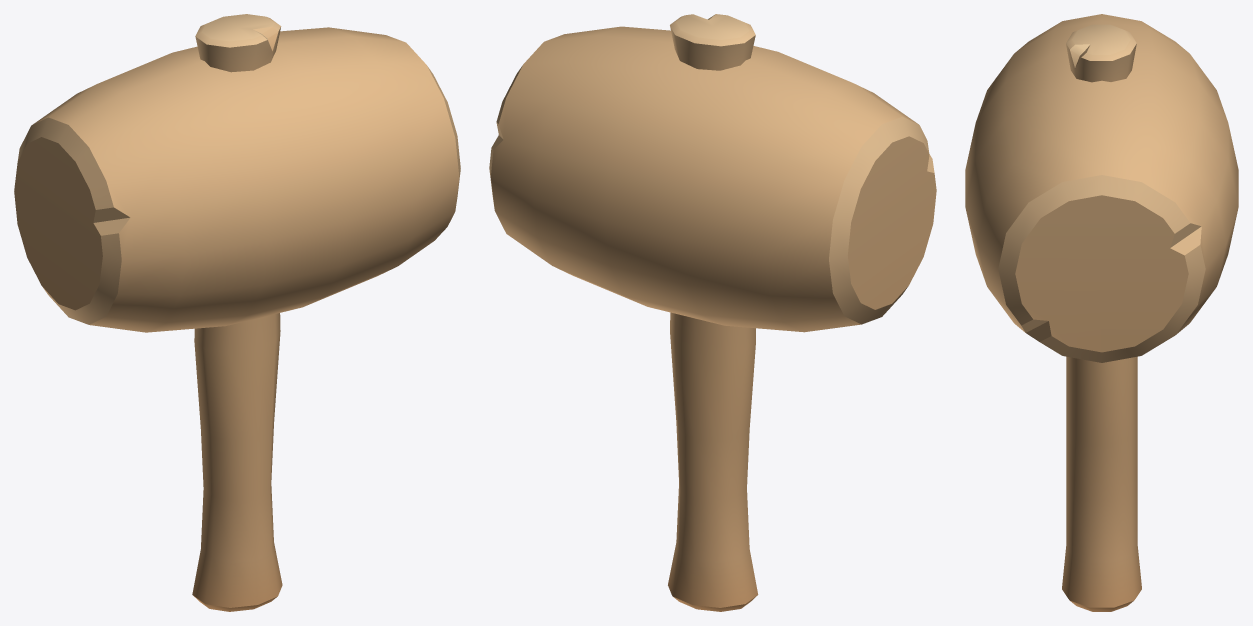
The model's file is mallet.glb.
3 renders of one model, left to right at view 1: azimuth 30°, elevation 25°; view 2: azimuth 150°, elevation 25°; view 3: azimuth 270°, elevation 25°, orthographic. The views are drawn at different scales.
Visible parts, largest first — view 1: mallet; view 2: mallet; view 3: mallet.
Boxes of the visible parts, bbox=[...] form: mallet: bbox=[14, 14, 460, 611]; mallet: bbox=[489, 14, 936, 611]; mallet: bbox=[965, 14, 1238, 611].
Size of the model in its own units: 0.3854 by 0.5901 by 0.2609.
1 material, 1 textured.
